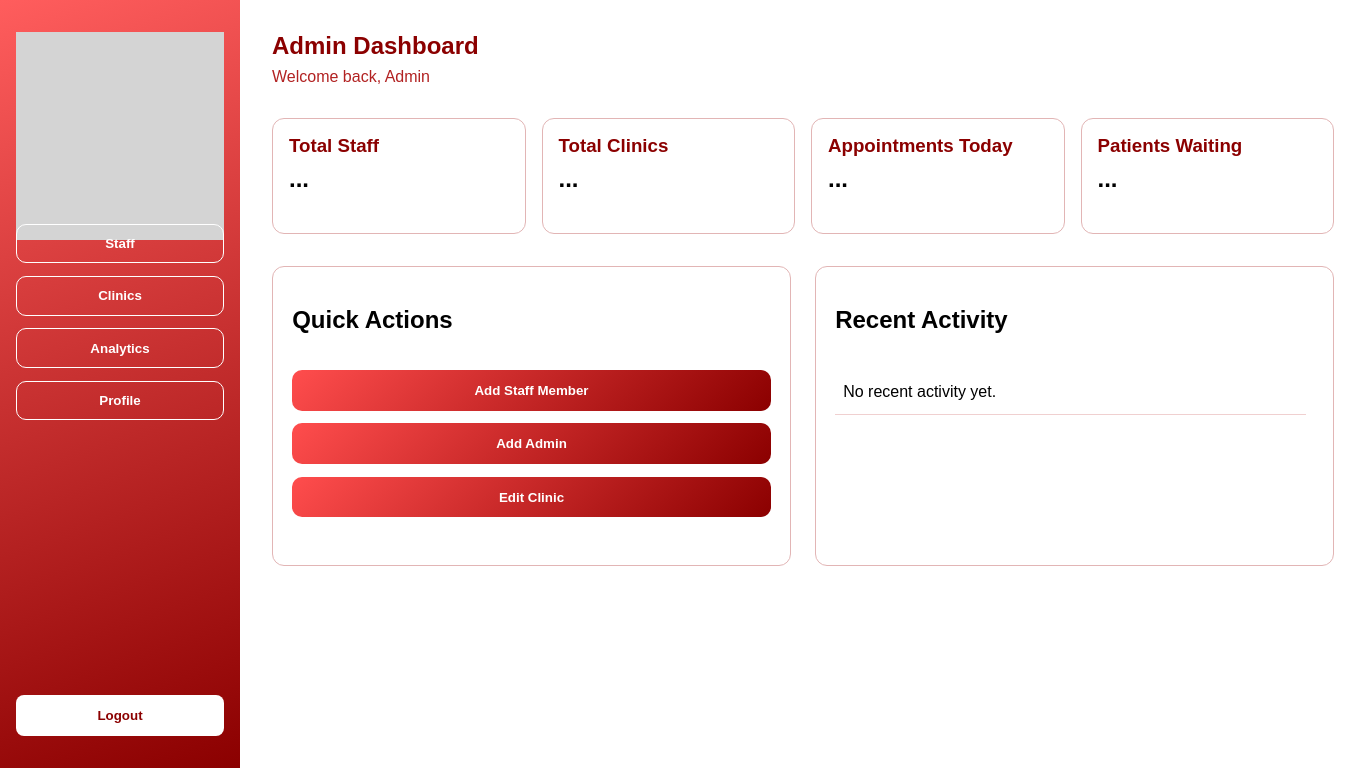
Test case: AdminDashboard › opens add admin popup
Click the button "Add Admin".
click(532, 444)  # box [292,423,771,464]
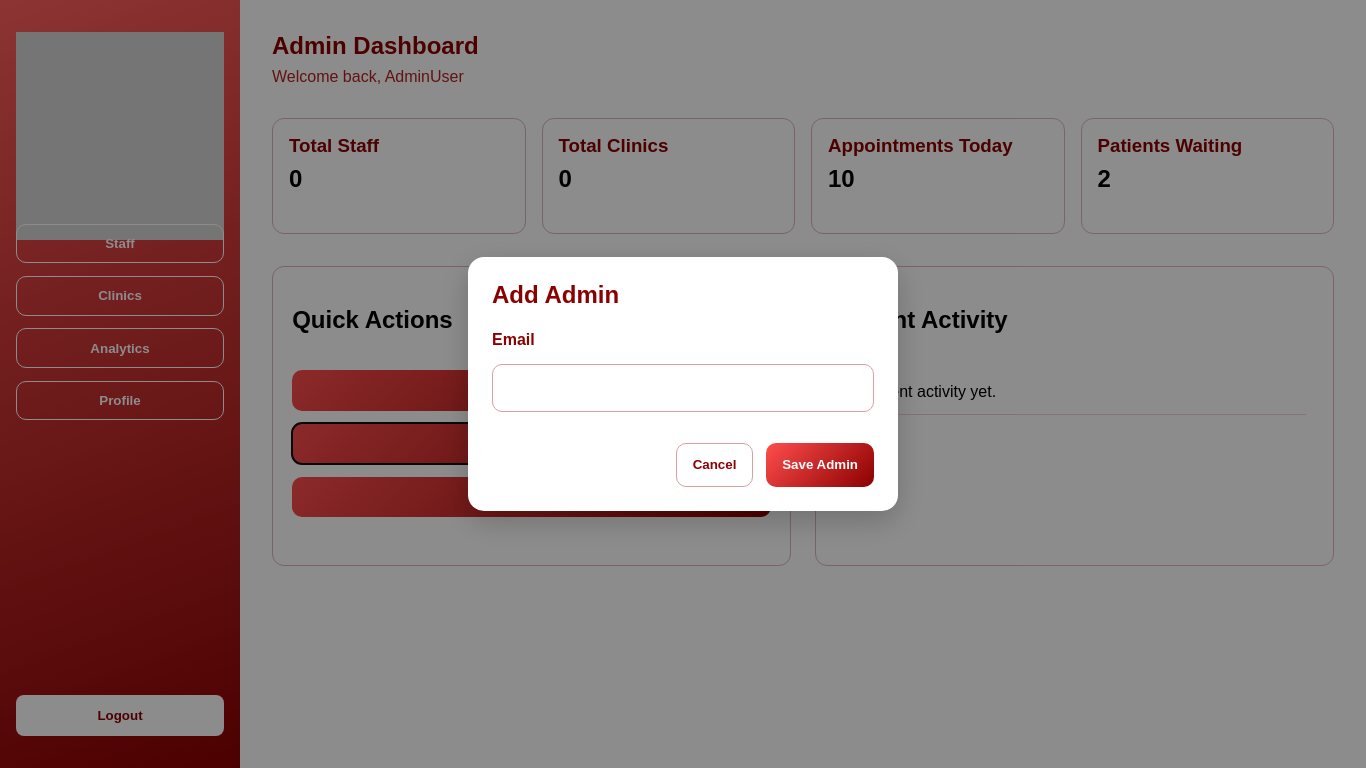
Result: the heading "Add Admin" is shown at [492,281,619,308]
Result: the field labelled "Email" is shown at [492,364,874,412]
